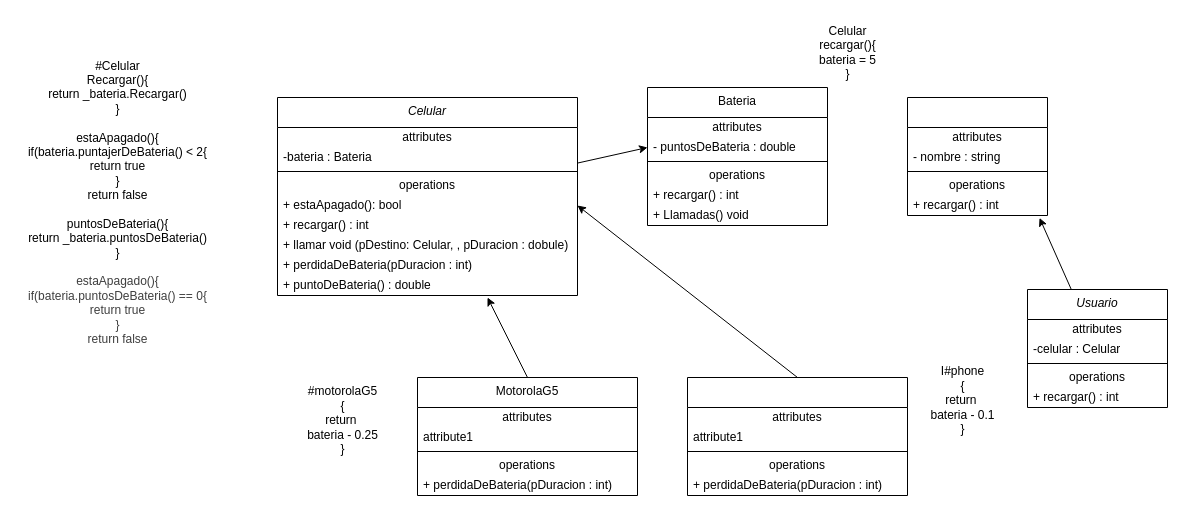
The diagram is 1185 pixels wide and 513 high, and some of its shapes have lost their labels. The box of each missing label's shape, as (x1, y1, x2, y2) in pixels:
Iphone: (686, 376, 908, 496)
Persona: (906, 96, 1048, 216)
